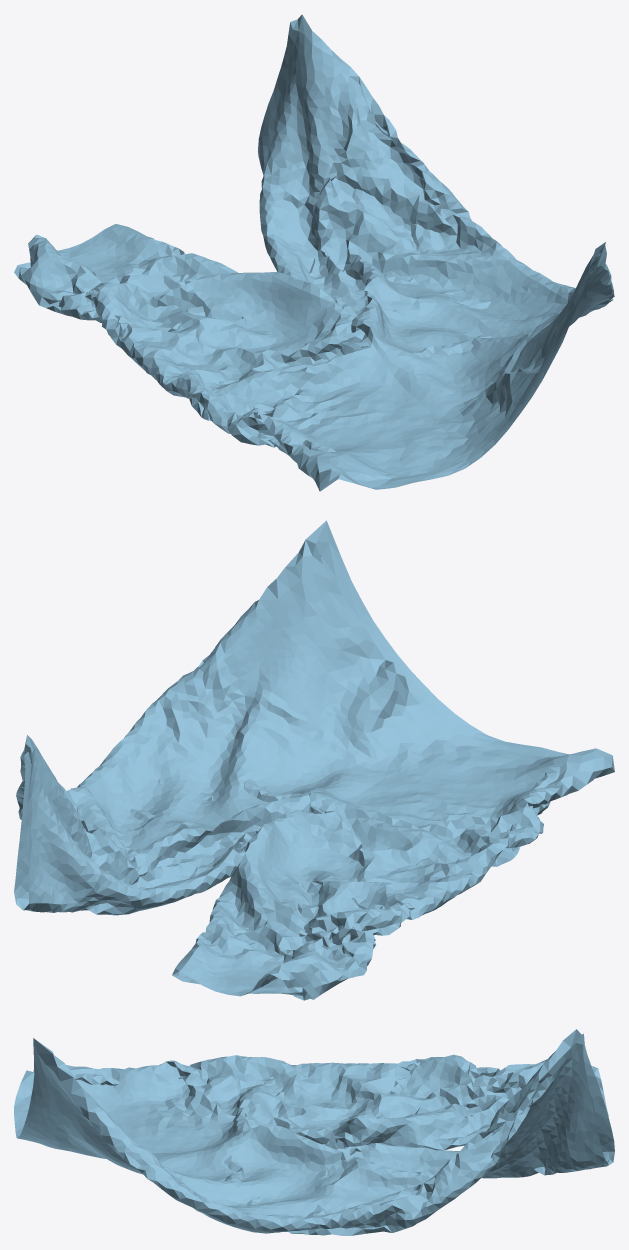
Rendered from frame_06.glb.
3 views of the same model, one above another, from view 1: azimuth 30°, elevation 25°; view 2: azimuth 150°, elevation 25°; view 3: azimuth 270°, elevation 25° (orthographic). The views are drawn at different scales.
Visible parts, largest first — view 1: frame_06.obj; view 2: frame_06.obj; view 3: frame_06.obj.
Part boxes in pixels (x1,y1,x2,y2): frame_06.obj: (14,14,614,491); frame_06.obj: (14,520,614,1000); frame_06.obj: (14,1029,614,1235).
Bounding box in the file's own units: 1.19 × 0.576 × 1.75.
